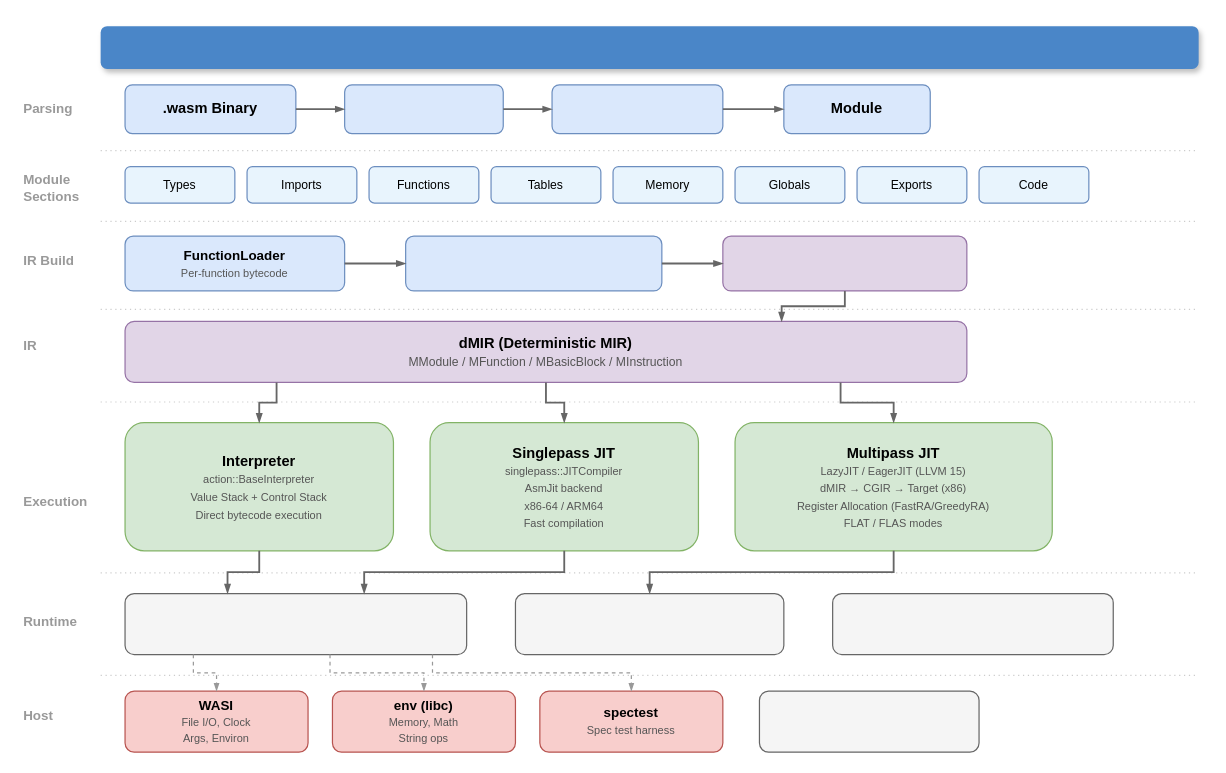
This 1226x773 diagram has some shape labels left out. The centre of each missing label's shape, as x and y in pixels:
CodeHolder: the point at 423,109
DTVM - WebAssembly Execution Path: the point at 650,49
Entry Points callNative_x86_64.S callNative_aarch64.S: the point at 868,721
FunctionMirBuilder Build dMIR from WASM: the point at 844,263
Instance callWasmFunction callWasmFunctionOnPhysStack: the point at 295,623
Instantiator Init globals, memory, tables: the point at 649,623
Memory Manager WasmMemoryAllocator / mmap: the point at 972,623
ModuleLoader: the point at 637,109
WASMByteCodeVisitor Walk WASM bytecode: the point at 533,263
